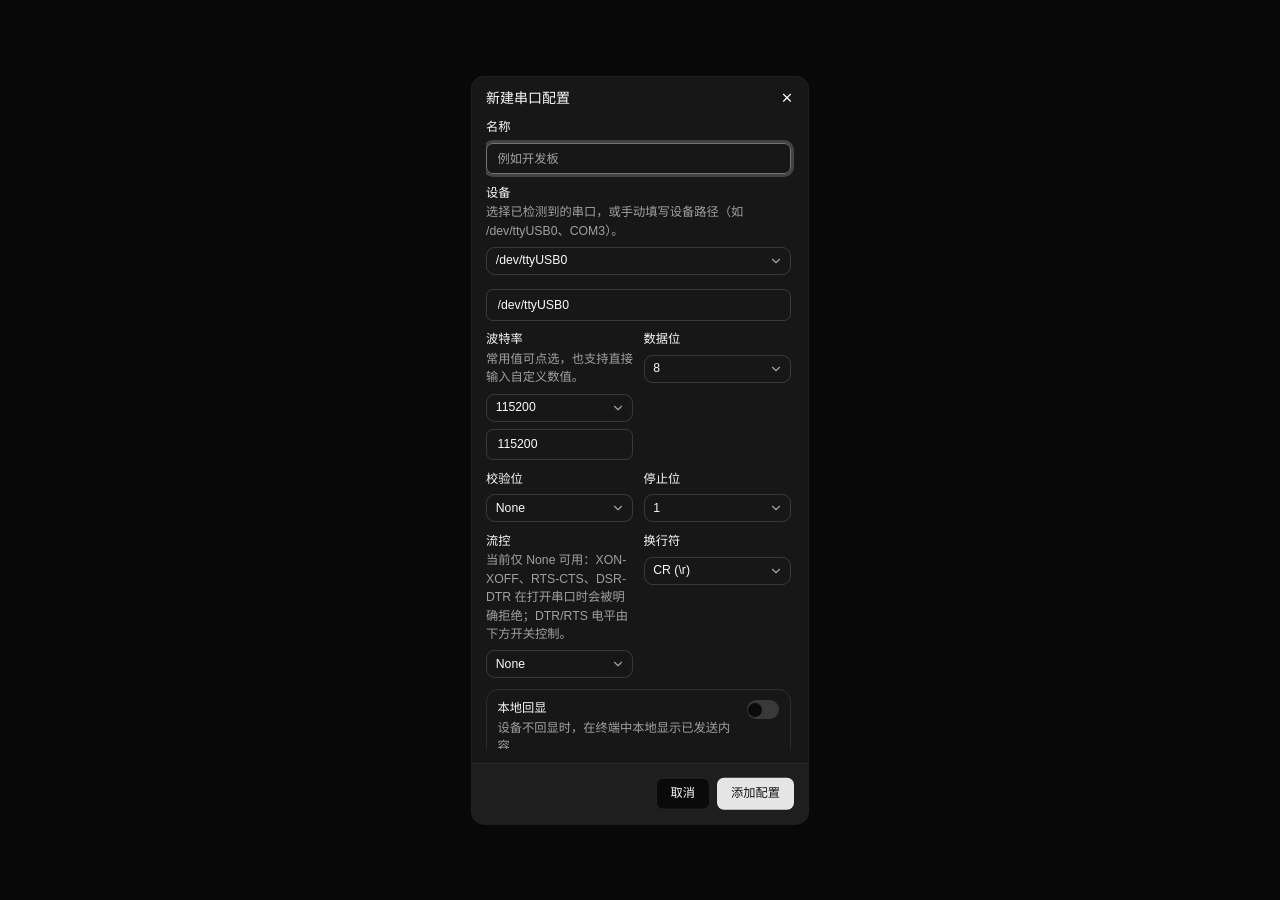
Scenario: SerialPortDialog › shows save failures inline without toast and keeps dialog open
The width and height of the screenshot is (1280, 900).
Type "COM-A" into the field with placeholder "例如开发板". click: (638, 158)
box: top-left (486, 143), bottom-right (790, 174)
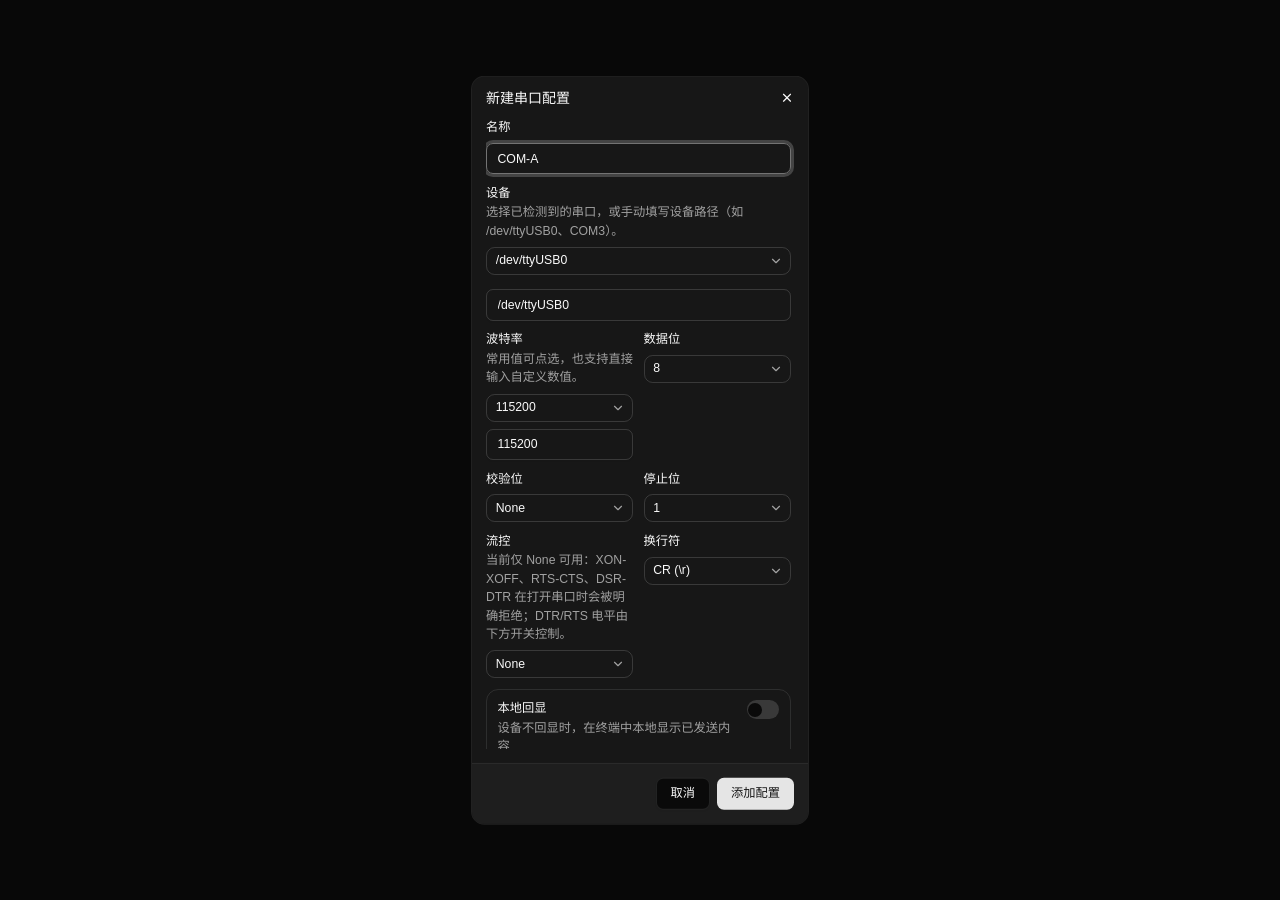
Click the button "添加配置". click: (756, 794)
box: top-left (717, 778), bottom-right (794, 809)
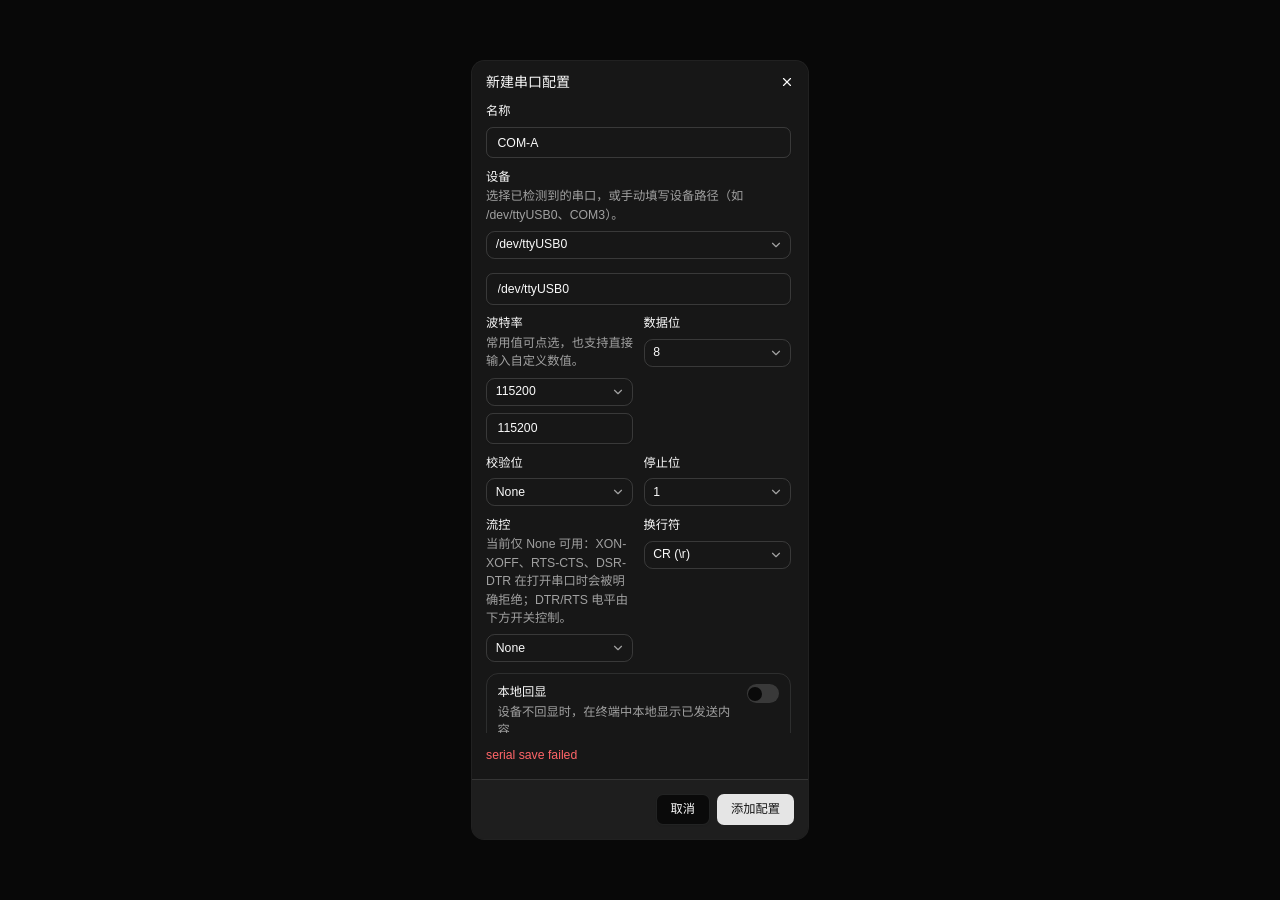
expect the dialog is shown: met, box top-left (472, 61), bottom-right (808, 839)
expect the message reads "serial save failed": met, box top-left (486, 748), bottom-right (577, 762)
